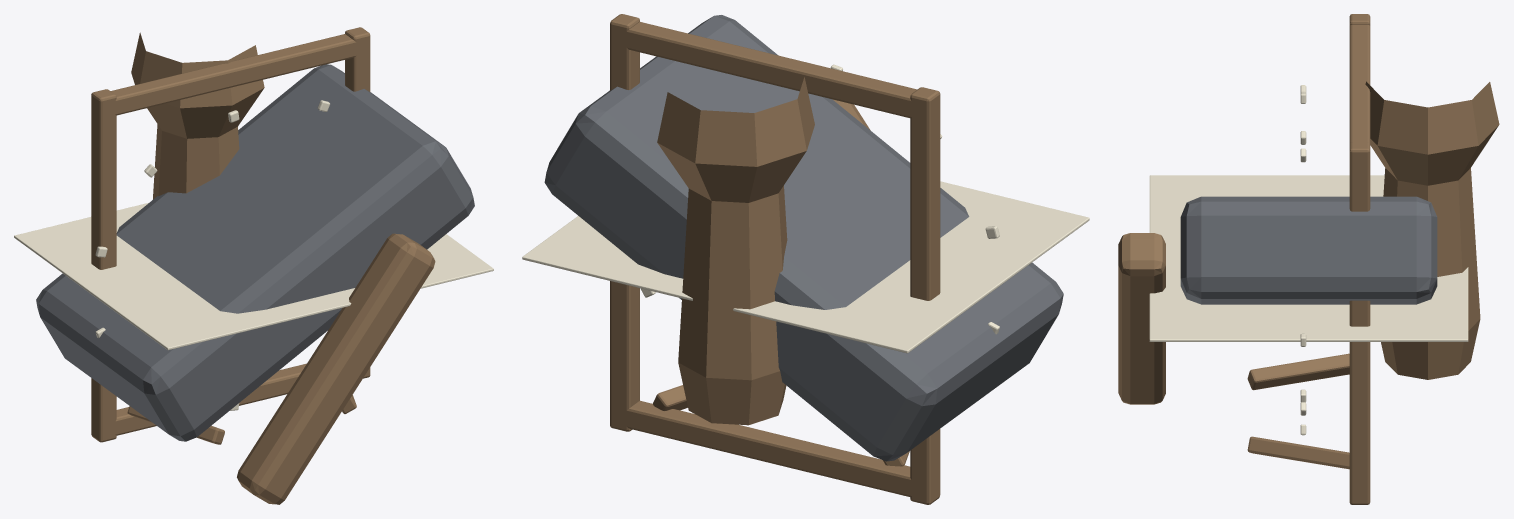
File: parchment_stretching_frame.glb
3 views of the same model, side by side, from view 1: azimuth 30°, elevation 25°; view 2: azimuth 150°, elevation 25°; view 3: azimuth 270°, elevation 25° (orthographic). The views are drawn at different scales.
Visible parts, largest first — view 1: 087-parchment-stretching-frame/8, 087-parchment-stretching-frame/peg-left-0, 087-parchment-stretching-frame/1, 087-parchment-stretching-frame/0; view 2: 087-parchment-stretching-frame/8, 087-parchment-stretching-frame/peg-left-0, 087-parchment-stretching-frame/0, 087-parchment-stretching-frame/1; view 3: 087-parchment-stretching-frame/8, 087-parchment-stretching-frame/peg-left-0, 087-parchment-stretching-frame/1, 087-parchment-stretching-frame/0.
Boxes of the visible parts, x1,y1,x2,y2 form: 087-parchment-stretching-frame/8: (36, 64, 474, 441); 087-parchment-stretching-frame/peg-left-0: (131, 32, 435, 504); 087-parchment-stretching-frame/1: (14, 100, 493, 410); 087-parchment-stretching-frame/0: (91, 27, 370, 444); 087-parchment-stretching-frame/8: (544, 15, 1063, 461); 087-parchment-stretching-frame/peg-left-0: (657, 77, 870, 425); 087-parchment-stretching-frame/0: (610, 14, 940, 504); 087-parchment-stretching-frame/1: (522, 64, 1089, 353); 087-parchment-stretching-frame/8: (1180, 196, 1437, 304); 087-parchment-stretching-frame/peg-left-0: (1118, 81, 1499, 404); 087-parchment-stretching-frame/1: (1149, 85, 1468, 435); 087-parchment-stretching-frame/0: (1247, 14, 1370, 504).
Bounding box in the file's own units: 2 × 2 × 1.94.
